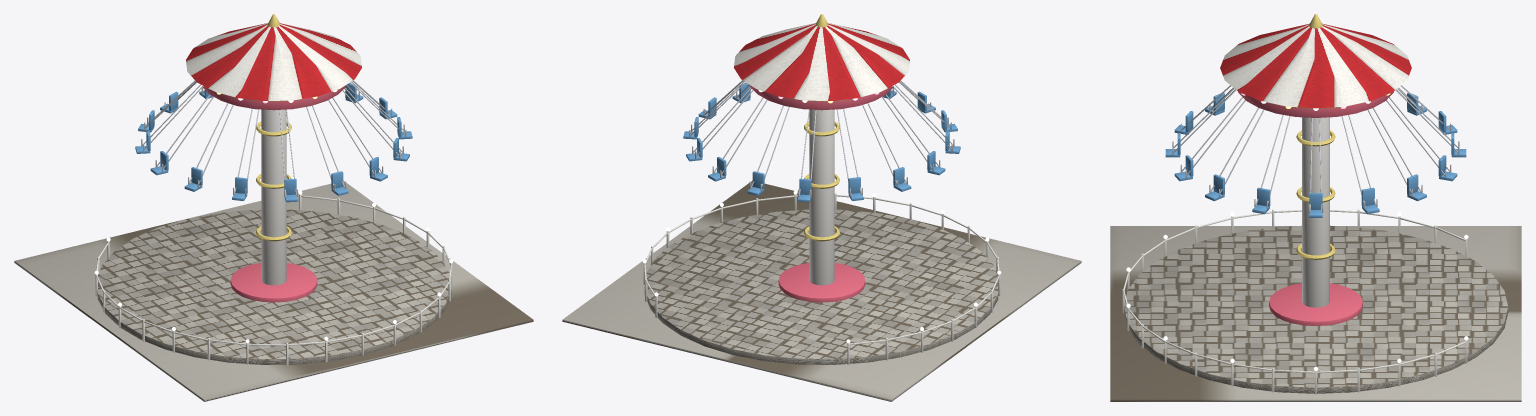
The model's file is th32_kettenkarussell.glb.
The picture shows the model from 3 angles, left to right: view 1: azimuth 30°, elevation 25°; view 2: azimuth 150°, elevation 25°; view 3: azimuth 270°, elevation 25°; orthographic projection. The views are drawn at different scales.
Parts seen in each view (by area): view 1: Cylinder, Cube, Cone, Cylinder.002, Cylinder.001, Cylinder.003; view 2: Cylinder, Cube, Cone, Cylinder.002, Cylinder.001, Cylinder.003; view 3: Cylinder, Cube, Cone, Cylinder.002, Cylinder.001, Cylinder.003.
Part boxes in pixels (x1,y1,x2,y2): Cylinder: (97,209,451,364); Cube: (14,180,533,401); Cone: (186,23,361,100); Cylinder.002: (261,109,286,285); Cylinder.001: (230,263,317,302); Cylinder.003: (202,85,346,110); Cylinder: (644,209,998,364); Cube: (562,180,1081,401); Cone: (734,23,909,100); Cylinder.002: (809,109,834,285); Cylinder.001: (778,263,865,302); Cylinder.003: (749,85,893,110); Cylinder: (1124,225,1508,393); Cube: (1110,226,1521,401); Cone: (1220,23,1411,108); Cylinder.002: (1302,117,1329,307); Cylinder.001: (1269,283,1362,325); Cylinder.003: (1238,92,1393,117).
Bounding box in the file's own units: 18.4 × 14.85 × 18.4.
Materials: 11 (2 with a texture image).
